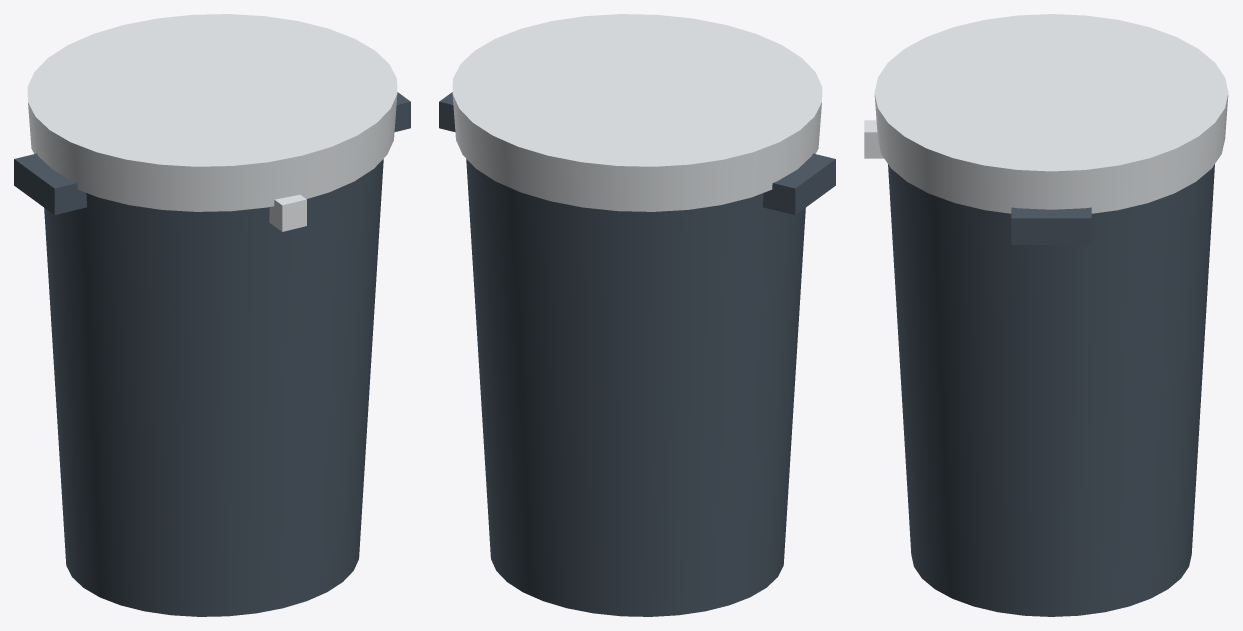
Rendered from scan-commercial-trash-can-wit-86c5.glb.
3 renders of one model, left to right at view 1: azimuth 30°, elevation 25°; view 2: azimuth 150°, elevation 25°; view 3: azimuth 270°, elevation 25°, orthographic.
Parts seen in each view (by area): view 1: scan-commercial-trash-can-wit-86c5; view 2: scan-commercial-trash-can-wit-86c5; view 3: scan-commercial-trash-can-wit-86c5.
Part boxes in pixels (left/top/right/bottom): scan-commercial-trash-can-wit-86c5: left=14, top=14, right=410, bottom=616; scan-commercial-trash-can-wit-86c5: left=439, top=14, right=835, bottom=616; scan-commercial-trash-can-wit-86c5: left=864, top=14, right=1228, bottom=616.
Size of the model in its own units: 0.56 by 0.7 by 0.5.
